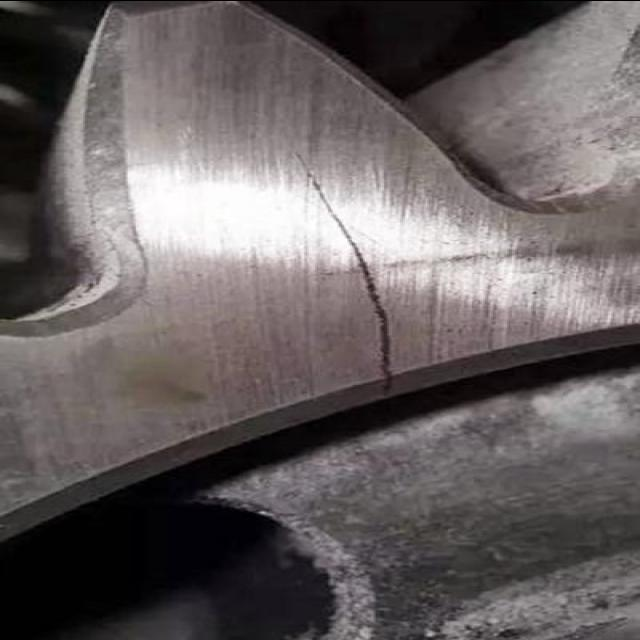Crack: (288, 141, 399, 395)
